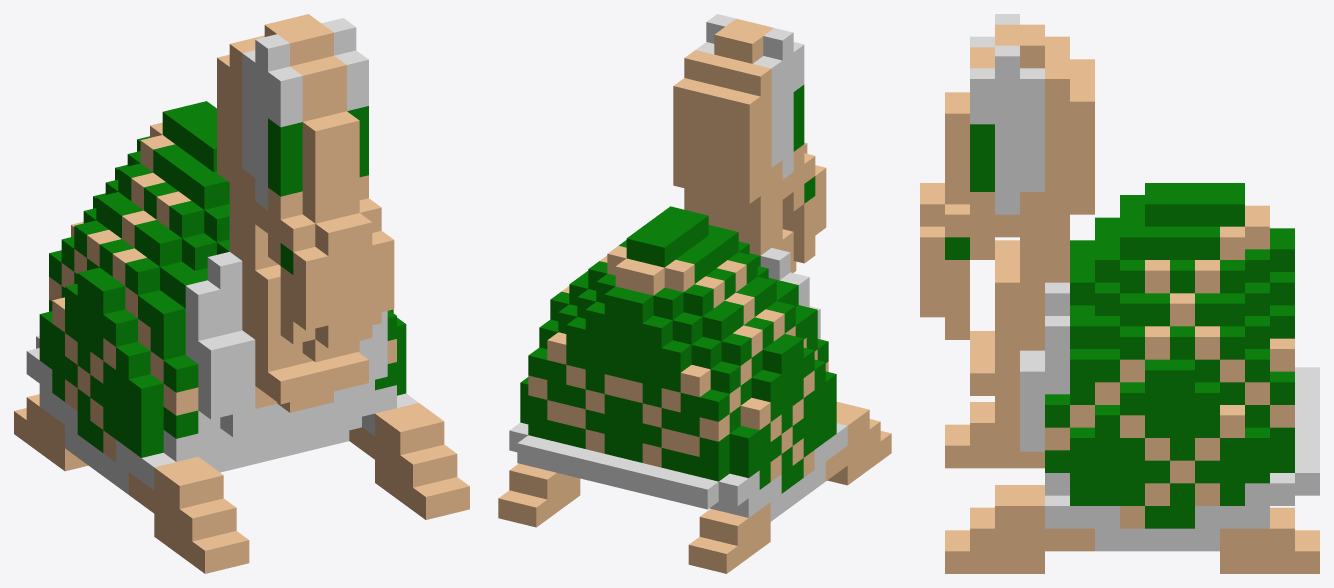
Rendered from koopa.glb.
The picture shows the model from 3 angles, left to right: view 1: azimuth 30°, elevation 25°; view 2: azimuth 150°, elevation 25°; view 3: azimuth 270°, elevation 25°; orthographic projection. The views are drawn at different scales.
Visible parts, largest first — view 1: Koopa troopa-01; view 2: Koopa troopa-01; view 3: Koopa troopa-01.
Part boxes in pixels (x1=…): Koopa troopa-01: x1=14, y1=14, x2=469, y2=573; Koopa troopa-01: x1=498, y1=14, x2=891, y2=573; Koopa troopa-01: x1=920, y1=14, x2=1319, y2=573.
Size of what is drawn, in the model's own units: 0.3048 by 0.5334 by 0.4064.
Materials: 1 (1 with a texture image).
